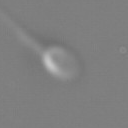normal: (1, 1, 44, 53)
